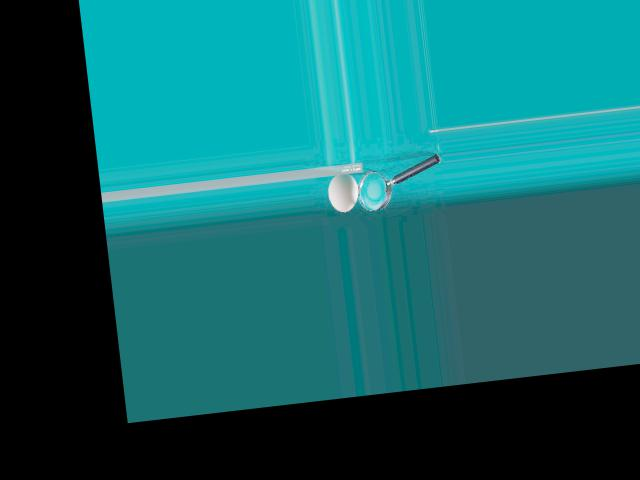egg: (325, 172, 360, 213)
